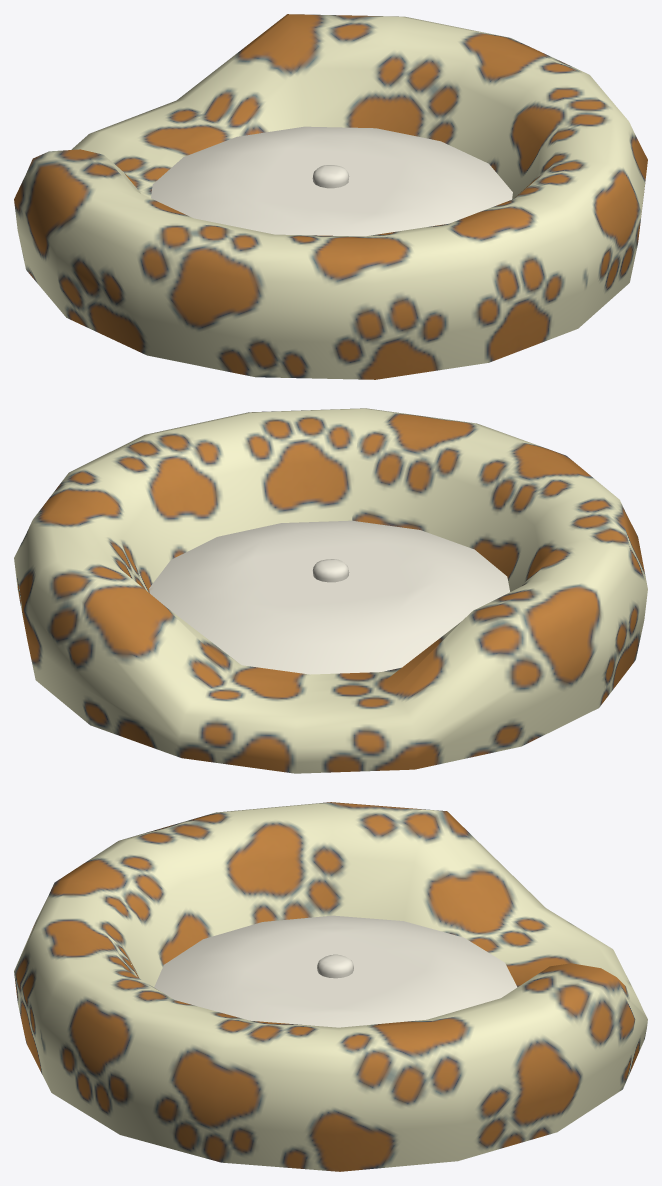
File: cushion.fbx
3 views of the same model, one above another, from view 1: azimuth 30°, elevation 25°; view 2: azimuth 150°, elevation 25°; view 3: azimuth 270°, elevation 25° (orthographic).
Visible parts, largest first — view 1: cushion; view 2: cushion; view 3: cushion.
Part boxes in pixels (bbox=[...]): cushion: bbox=[14, 14, 647, 379]; cushion: bbox=[14, 408, 647, 773]; cushion: bbox=[14, 802, 647, 1171].
Bounding box in the file's own units: 116 × 23.46 × 115.
Materials: 1 (1 with a texture image).
